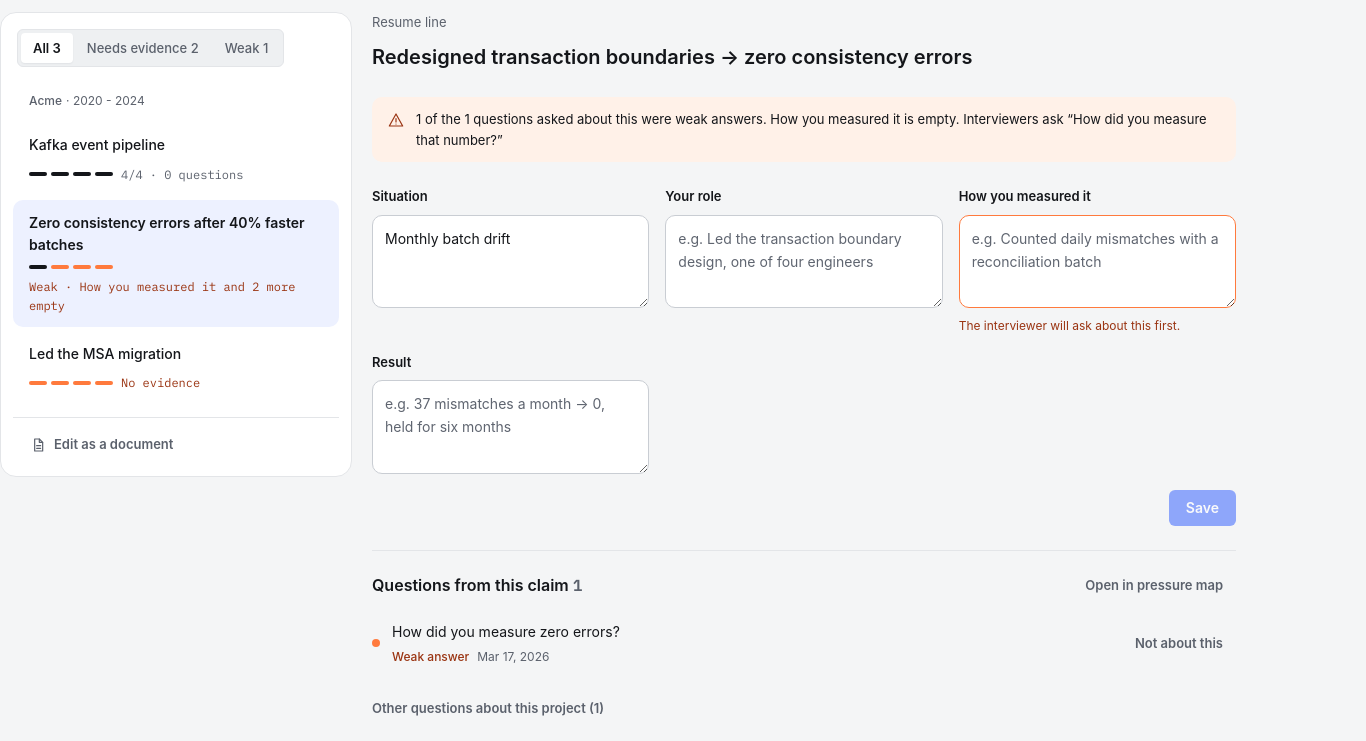
Scenario: ResumeClaimsPage › filters to claims that need evidence or drew weak answers
Click the radio button labelled "Weak 1" at (247, 48), box [213,33,280,63]
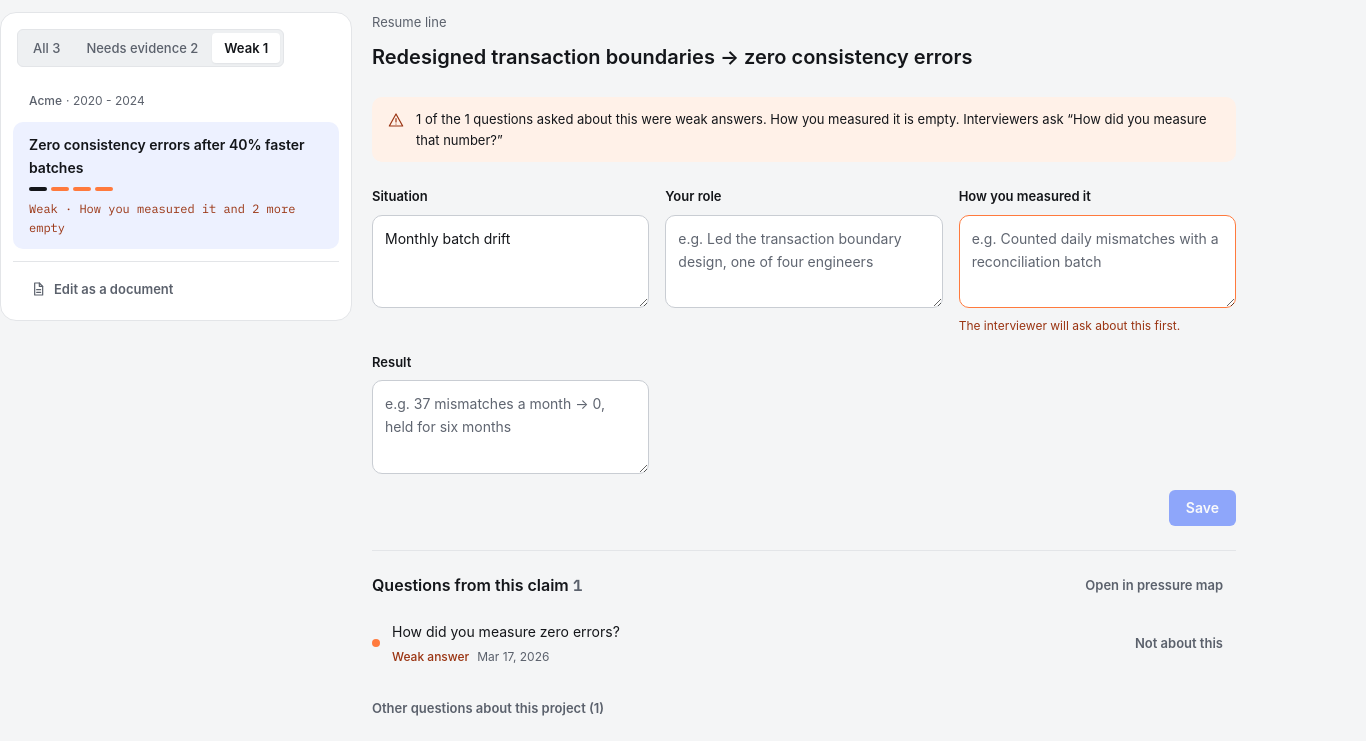
Expected: the 1st button is shown, [13,122,339,249]
Result: the button "Led the MSA migration" is gone
Result: the button "Kafka event pipeline" is gone
Click the radio button labelled "Needs evidence 2" at (142, 48), box [74,33,210,63]
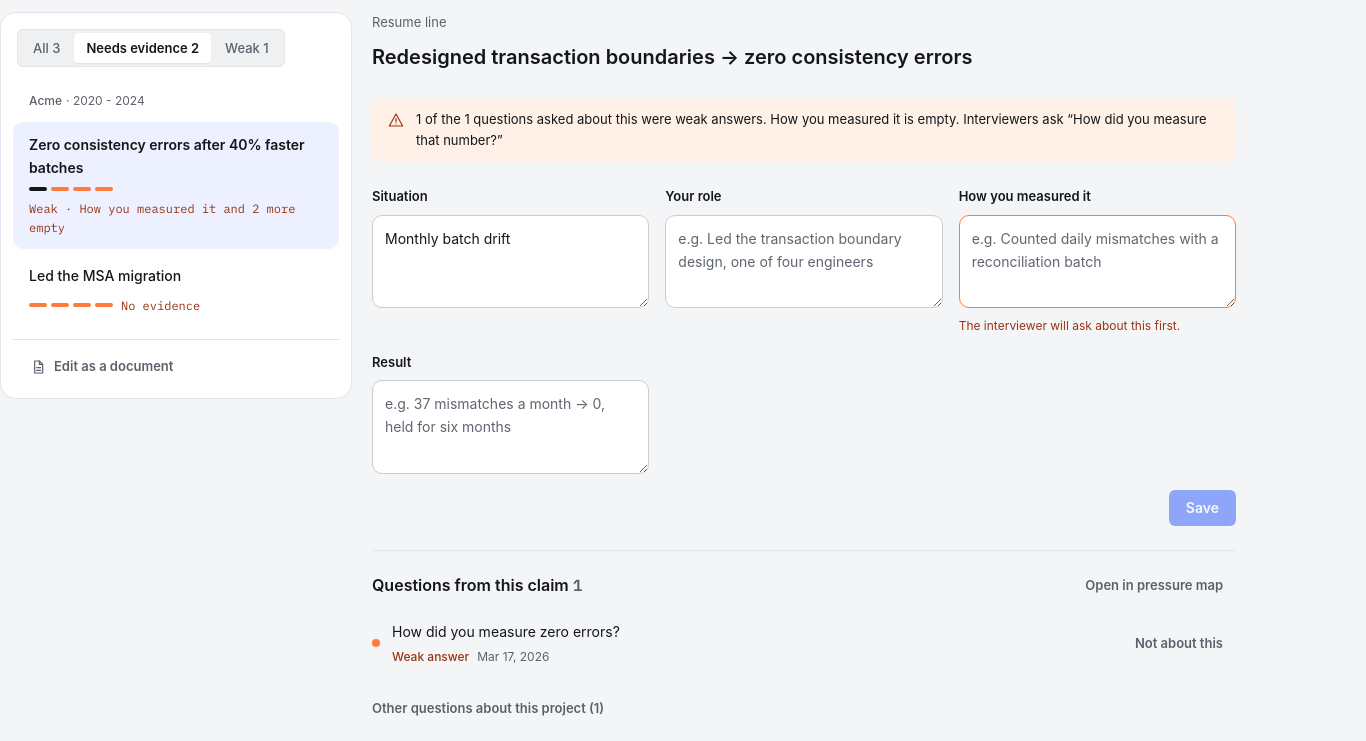
Expected: the button "Kafka event pipeline" is not shown
Result: the button "Led the MSA migration No evidence" is shown at [13,253,339,327]
